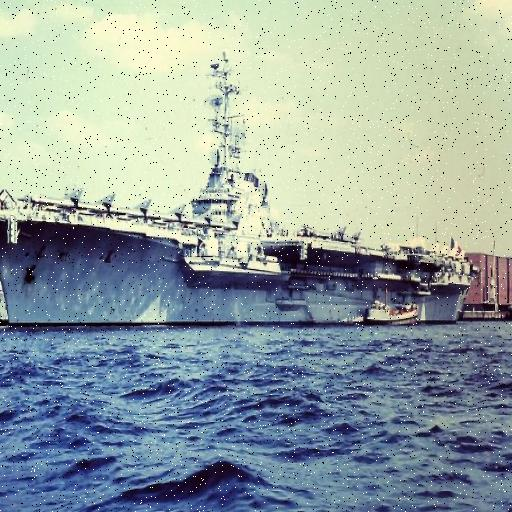Portanaves: (1, 48, 479, 333)
